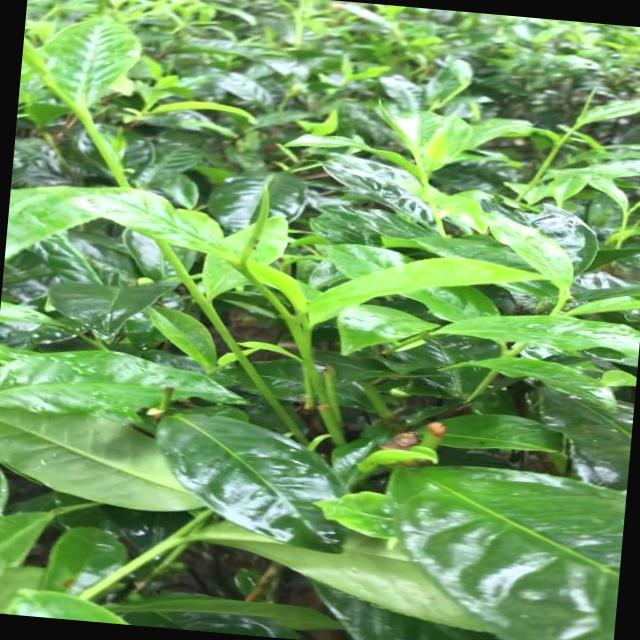Stem: (240, 268, 265, 291)
